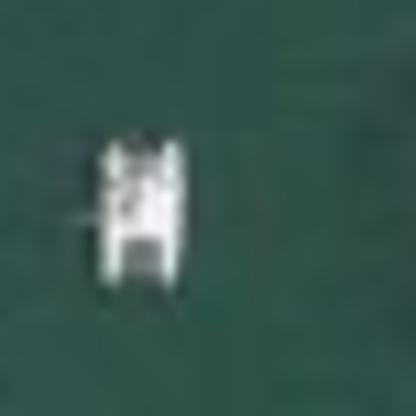ship: (44, 116, 210, 302)
